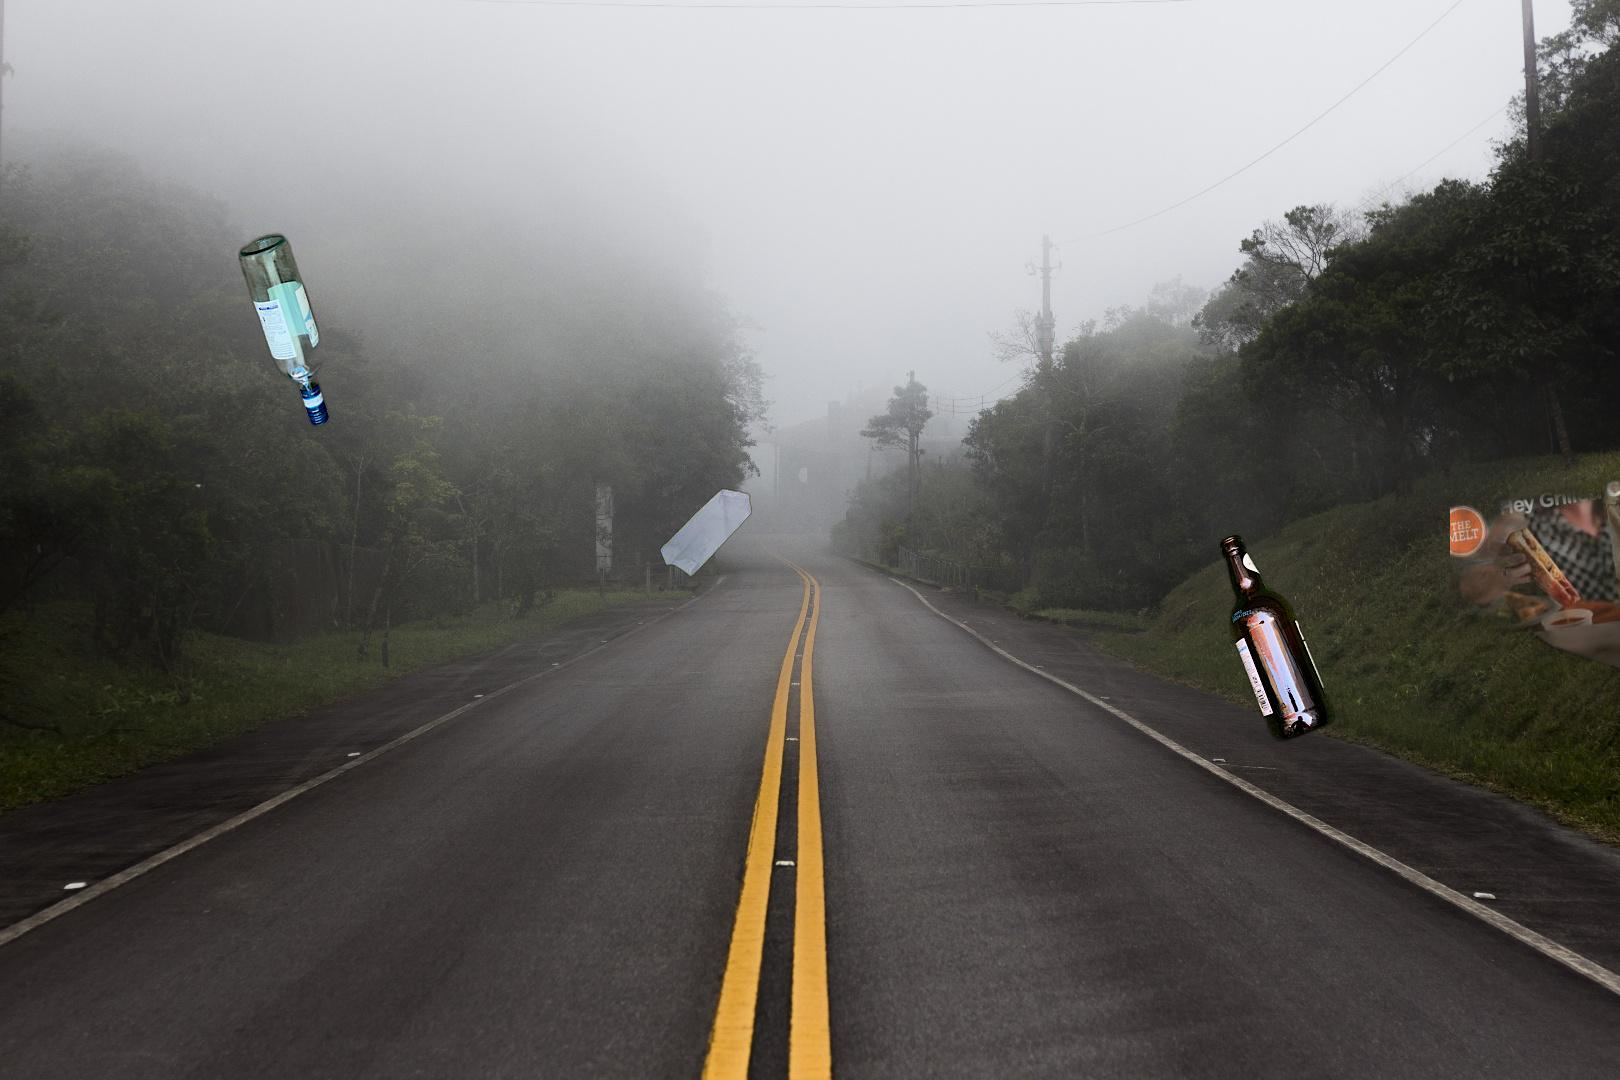glass: (1216, 528, 1339, 746), (235, 228, 333, 432)
paper: (1450, 382, 1620, 766)
plastic-bag: (657, 486, 755, 580)
